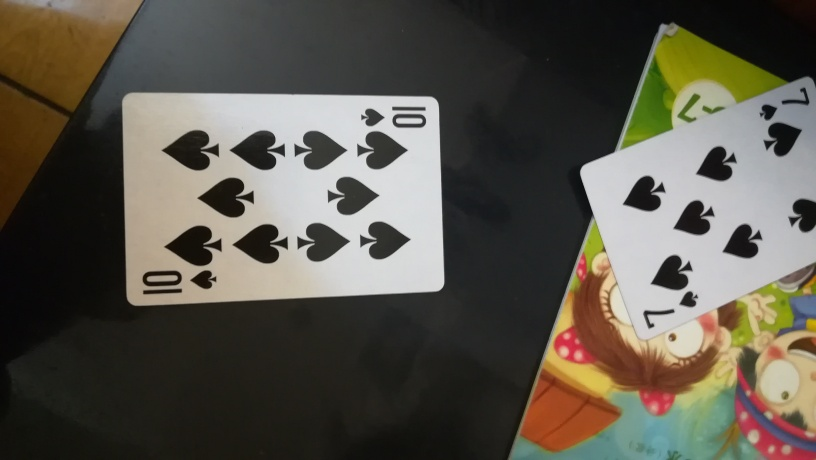ht 10: (119, 90, 448, 306)
ht 7: (575, 74, 816, 339)
